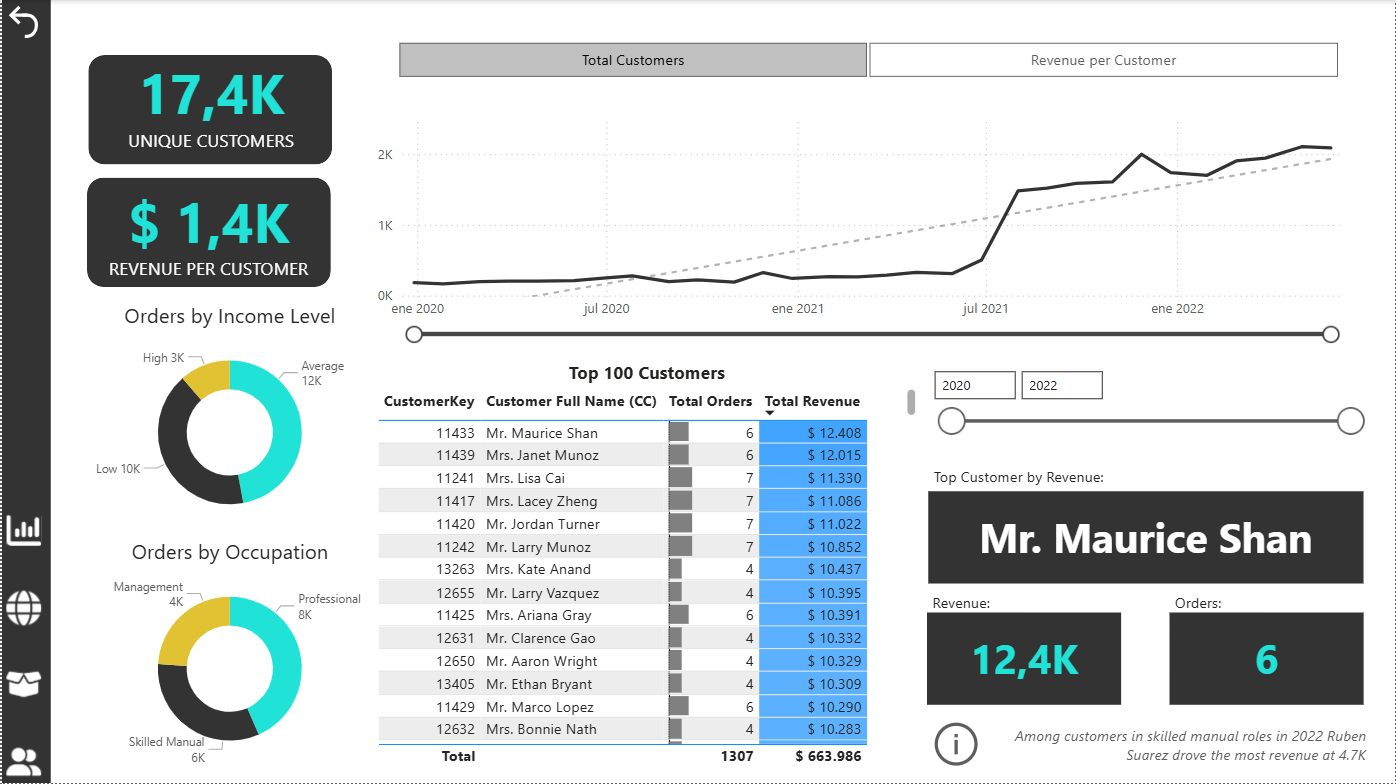

The page's visual inventory and layout, read from the dashboard file:
{"tool":"powerbi","page":{"name":"Customer Detail","canvas":[1280,720],"ordinal":3},"visuals":[{"type":"shape","title":"Left Nav Background","box":[0,0,45,720.2],"z":0},{"type":"actionButton","box":[0,467.5,45,40],"z":0,"group":"g1"},{"type":"shape","box":[79.3,50.1,224.1,100.7],"z":1000},{"type":"actionButton","box":[0,609.2,45,40],"z":1000,"group":"g1"},{"type":"card","fields":{"Values":["Measure Table.Total Customers"]},"box":[92.5,39.3,199,111.5],"z":2000},{"type":"actionButton","box":[0,680,45,40],"z":2000,"group":"g1"},{"type":"shape","box":[78.1,163,224.1,100.7],"z":3000},{"type":"actionButton","box":[0,538.3,45,40],"z":3000,"group":"g1"},{"type":"card","fields":{"Values":["Measure Table.Average Revenue per Customer"]},"box":[91.3,157,199,111.5],"z":4000},{"type":"lineChart","title":"Customers Trending","fields":{"Y":["Measure Table.Total Customers"],"Category":["Calendar Lookup.Date Hierarchy.Start of Year","Calendar Lookup.Date Hierarchy.Start of Month","Calendar Lookup.Date Hierarchy.Start of Week","Calendar Lookup.Date Hierarchy.Date"]},"box":[338.8,95,912.5,222.5],"z":5000},{"type":"donutChart","title":"Orders by Income Level","fields":{"Category":["Customer Lookup.Income Level"],"Y":["Measure Table.Total Orders"]},"box":[79.3,277.1,260.5,216.7],"z":6000},{"type":"donutChart","title":"Orders by Occupation","fields":{"Y":["Measure Table.Total Orders"],"Category":["Customer Lookup.Occupation"]},"box":[79.3,493.9,260.5,216.7],"z":7000},{"type":"tableEx","title":"Top 100 Customers","fields":{"Values":["Customer Lookup.CustomerKey","Customer Lookup.Customer Full Name (CC)","Measure Table.Total Orders","Measure Table.Total Revenue"]},"box":[340,331.2,505,378.8],"z":8000},{"type":"card","fields":{"Values":["Measure Table.Full Name (Customer Detail)"]},"box":[851.3,451,400,85],"z":9000},{"type":"card","fields":{"Values":["Measure Table.Total Revenue (Customer Detail)"]},"box":[850,563.4,178.8,85],"z":10000},{"type":"card","fields":{"Values":["Measure Table.Total Orders (Customer Detail)"]},"box":[1072.5,563.4,178.8,85],"z":11000},{"type":"textbox","box":[850.8,424,180,37.5],"z":12000},{"type":"slicer","fields":{"Values":["Calendar Lookup.Year"]},"box":[843.8,331.2,416.2,82.5],"z":13000},{"type":"textbox","box":[1072.5,540,66.2,32.5],"z":14000},{"type":"textbox","box":[850,540,88.8,32.5],"z":15000},{"type":"actionButton","box":[0,0,45,40],"z":16000},{"type":"actionButton","box":[851.2,658.8,408.8,51.2],"z":17000},{"type":"group","id":"g1","title":"Navigation Buttons","box":[0,467.5,45,252.5],"z":18000},{"type":"slicer","fields":{"Values":["Customer Metric Selection.Customer Metric Selection"]},"box":[338.8,32.5,912.5,45],"z":19000}]}

Visuals, with their boxes on the page's 1280x720 design canvas (x1, y1, x2, y2). These are canvas units, not pixel positions in the 1396x784 screenshot, which may show the page scaled, cropped or inside an application window:
"Left Nav Background" shape: [0,0,45,720]
actionButton: [0,468,45,508]
shape: [79,50,303,151]
actionButton: [0,609,45,649]
card - Measure Table.Total Customers: [92,39,292,151]
actionButton: [0,680,45,720]
shape: [78,163,302,264]
actionButton: [0,538,45,578]
card - Measure Table.Average Revenue per Customer: [91,157,290,268]
"Customers Trending" lineChart: [339,95,1251,318]
"Orders by Income Level" donutChart: [79,277,340,494]
"Orders by Occupation" donutChart: [79,494,340,711]
"Top 100 Customers" tableEx: [340,331,845,710]
card - Measure Table.Full Name (Customer Detail): [851,451,1251,536]
card - Measure Table.Total Revenue (Customer Detail): [850,563,1029,648]
card - Measure Table.Total Orders (Customer Detail): [1072,563,1251,648]
textbox: [851,424,1031,462]
slicer - Calendar Lookup.Year: [844,331,1260,414]
textbox: [1072,540,1139,572]
textbox: [850,540,939,572]
actionButton: [0,0,45,40]
actionButton: [851,659,1260,710]
"Navigation Buttons" group: [0,468,45,720]
slicer - Customer Metric Selection.Customer Metric Selection: [339,32,1251,78]
